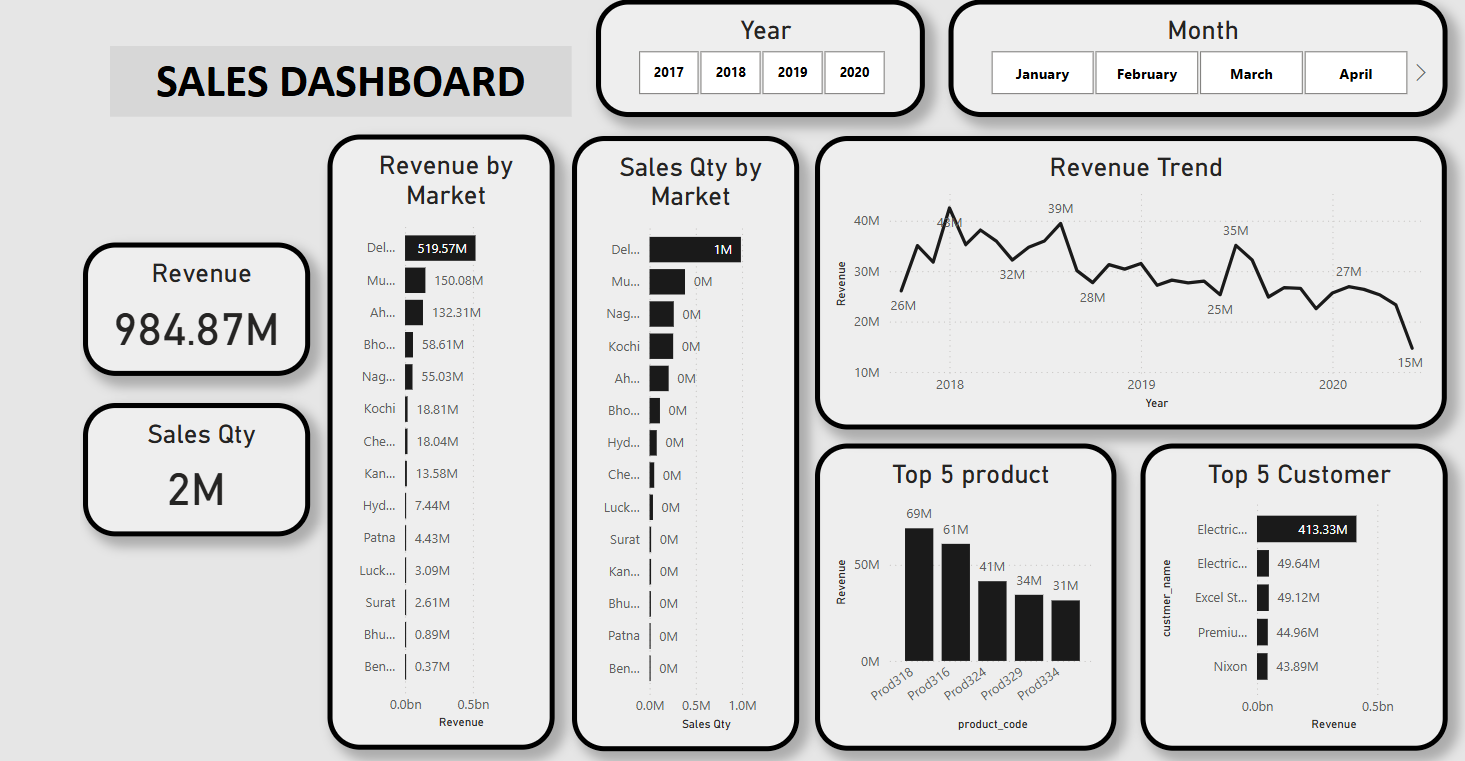

The page's visual inventory and layout, read from the dashboard file:
{"tool":"powerbi","page":{"name":"Page 1","canvas":[1000,1350],"ordinal":0},"visuals":[{"type":"card","fields":{"Values":["BaseMeasures.Revenue"]},"box":[0,0,151,101],"z":0},{"type":"card","fields":{"Values":["BaseMeasures.Sales Qty"]},"box":[151,0,145,91],"z":1000},{"type":"barChart","title":"Revenue by Market","fields":{"Y":["BaseMeasures.Revenue"],"Category":["sales markets.markets_name"]},"box":[0,91,151,465],"z":2000},{"type":"barChart","title":"Sales Qty by Market","fields":{"Y":["BaseMeasures.Sales Qty"],"Category":["sales markets.markets_name"]},"box":[151,101,164,455],"z":3000},{"type":"slicer","fields":{"Values":["sales date.year"]},"box":[315,0,250,75],"z":4000},{"type":"slicer","fields":{"Values":["sales date.month_name"]},"box":[555,0,416,75],"z":5000},{"type":"barChart","title":"Top 5 customers","fields":{"Y":["BaseMeasures.Revenue"],"Category":["sales customers.custmer_name"]},"box":[565,305,245,251],"z":6000},{"type":"barChart","title":"Top 5 product","fields":{"Y":["BaseMeasures.Revenue"],"Category":["sales transactions.product_code"]},"box":[315,306,233,251],"z":7000},{"type":"lineChart","title":"Revenue Trend","fields":{"Y":["BaseMeasures.Revenue"],"Category":["sales date.cy_date.Variation.Date Hierarchy.Year","sales date.cy_date.Variation.Date Hierarchy.Quarter","sales date.cy_date.Variation.Date Hierarchy.Month","sales date.cy_date.Variation.Date Hierarchy.Day"]},"box":[315,75,485,230],"z":7001}]}

Visuals, with their boxes in screenshot pixels (x1, y1, x2, y2):
card - BaseMeasures.Revenue: <box>237,0,327,11</box>
card - BaseMeasures.Sales Qty: <box>327,0,413,5</box>
"Revenue by Market" barChart: <box>237,5,327,282</box>
"Sales Qty by Market" barChart: <box>327,11,424,282</box>
"Top 5 customers" barChart: <box>573,132,719,282</box>
"Top 5 product" barChart: <box>424,133,563,282</box>
"Revenue Trend" lineChart: <box>424,0,713,132</box>
